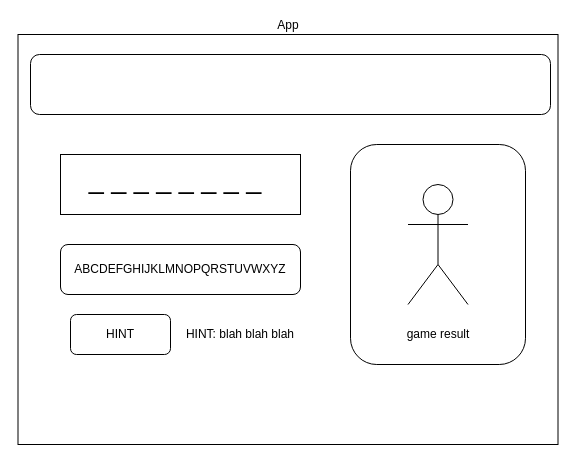
Some shapes in this 575 by 462 pixel diagram are drawn without their labels. Each missing label, with the box of its shape:
Generated Word: (60, 154, 300, 214)
Header: (30, 54, 550, 114)
